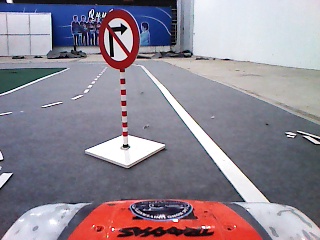ban: (97, 8, 141, 70)
